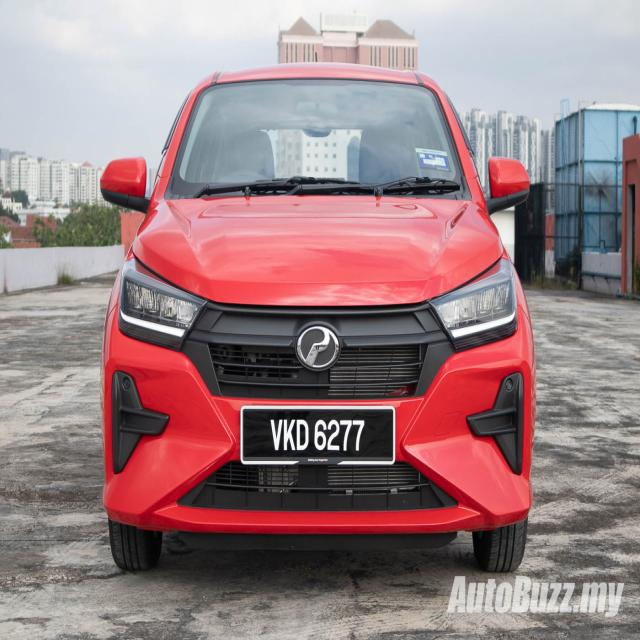PeroduaAxia: (98, 60, 537, 575)
